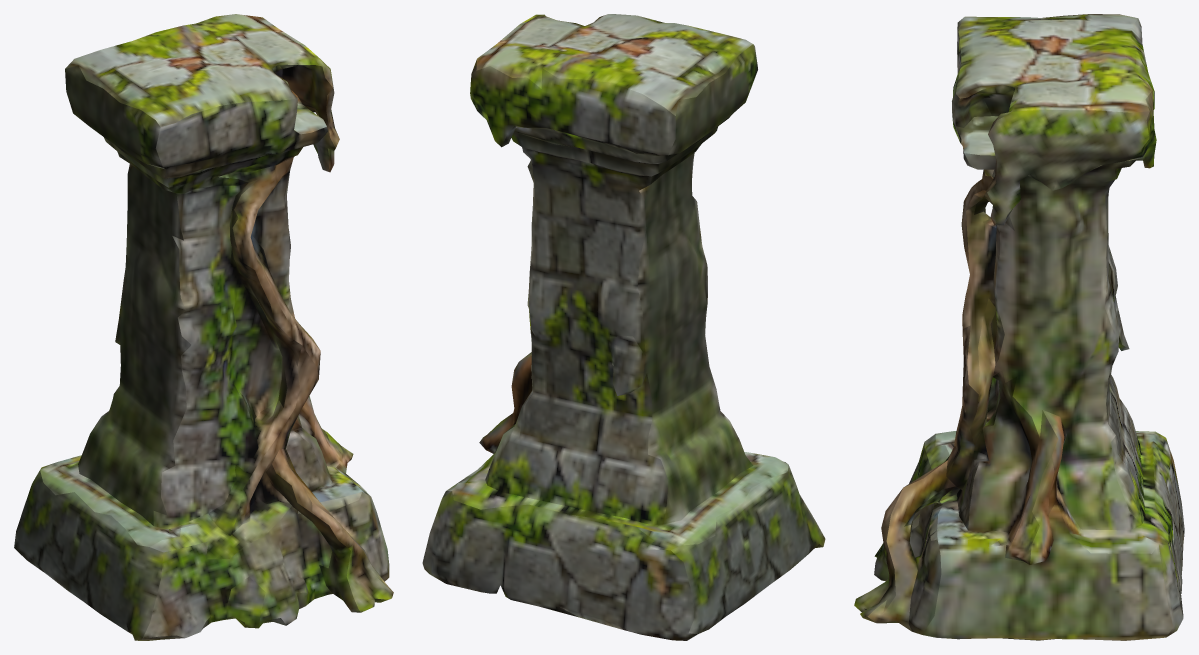
The model's file is F3D_19_Pillar.fbx.
The picture shows the model from 3 angles, left to right: view 1: azimuth 30°, elevation 25°; view 2: azimuth 150°, elevation 25°; view 3: azimuth 270°, elevation 25°; orthographic projection. The views are drawn at different scales.
Visible parts, largest first — view 1: F3D_19_Pillar; view 2: F3D_19_Pillar; view 3: F3D_19_Pillar.
Part boxes in pixels (x1=…): F3D_19_Pillar: x1=14, y1=14, x2=393, y2=640; F3D_19_Pillar: x1=422, y1=14, x2=825, y2=640; F3D_19_Pillar: x1=854, y1=14, x2=1184, y2=640.
Bounding box in the file's own units: 0.5633 × 1 × 0.5649.
Materials: 1 (1 with a texture image).
